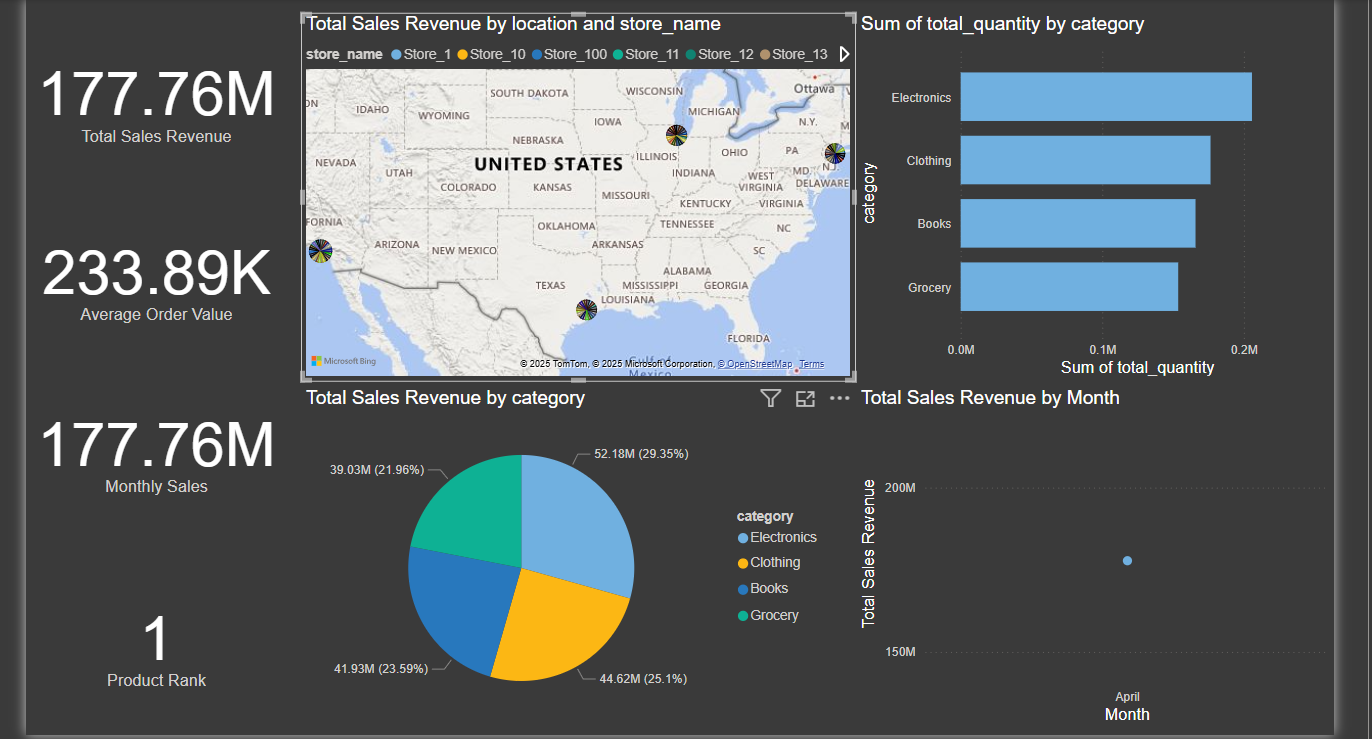

This screenshot's page, from the dashboard's own definition file:
{"tool":"powerbi","page":{"name":"Page 1","canvas":[1280,720],"ordinal":0},"visuals":[{"type":"card","fields":{"Values":["gold_db sales_gold.Total Sales Revenue"]},"box":[0,0,255.9,193.8],"z":0},{"type":"card","fields":{"Values":["gold_db sales_gold.Average Order Value"]},"box":[0,165,255.9,213.5],"z":1000},{"type":"clusteredBarChart","fields":{"Y":["Sum(gold_db sales_gold.total_quantity)"],"Category":["gold_db sales_gold.category"]},"box":[811.6,13.6,467.9,360.4],"z":2000},{"type":"pieChart","fields":{"Category":["gold_db_sales_gold.category"],"Y":["gold_db_sales_gold.Total Sales Revenue"]},"box":[269.5,378.6,519.4,334.6],"z":3000},{"type":"map","fields":{"Size":["gold_db_sales_gold.Total Sales Revenue"],"Category":["gold_db_sales_gold.location"],"Series":["gold_db_sales_gold.store_name"]},"box":[269.5,13.6,542.1,360.4],"z":4000},{"type":"lineChart","fields":{"Category":["gold_db_sales_gold.report_date.Variation.Date Hierarchy.Month","gold_db_sales_gold.report_date.Variation.Date Hierarchy.Day"],"Y":["gold_db_sales_gold.Total Sales Revenue"]},"box":[811.6,378.6,467.9,334.6],"z":5000},{"type":"card","fields":{"Values":["gold_db_sales_gold.Monthly Sales"]},"box":[0,337.7,255.9,204.4],"z":6000},{"type":"card","fields":{"Values":["gold_db_sales_gold.Product Rank"]},"box":[0,540.6,255.9,178.7],"z":7000}]}

Visuals, with their boxes on the page's 1280x720 design canvas (x1, y1, x2, y2). These are canvas units, not pixel positions in the 1372x739 screenshot, which may show the page scaled, cropped or inside an application window:
card - gold_db sales_gold.Total Sales Revenue: l=0, t=0, r=256, b=194
card - gold_db sales_gold.Average Order Value: l=0, t=165, r=256, b=378
clusteredBarChart - Sum(gold_db sales_gold.total_quantity) x gold_db sales_gold.category: l=812, t=14, r=1280, b=374
pieChart - gold_db_sales_gold.category x gold_db_sales_gold.Total Sales Revenue: l=270, t=379, r=789, b=713
map - gold_db_sales_gold.Total Sales Revenue x gold_db_sales_gold.location: l=270, t=14, r=812, b=374
lineChart - gold_db_sales_gold.report_date.Variation.Date Hierarchy.Month x gold_db_sales_gold.report_date.Variation.Date Hierarchy.Day: l=812, t=379, r=1280, b=713
card - gold_db_sales_gold.Monthly Sales: l=0, t=338, r=256, b=542
card - gold_db_sales_gold.Product Rank: l=0, t=541, r=256, b=719
